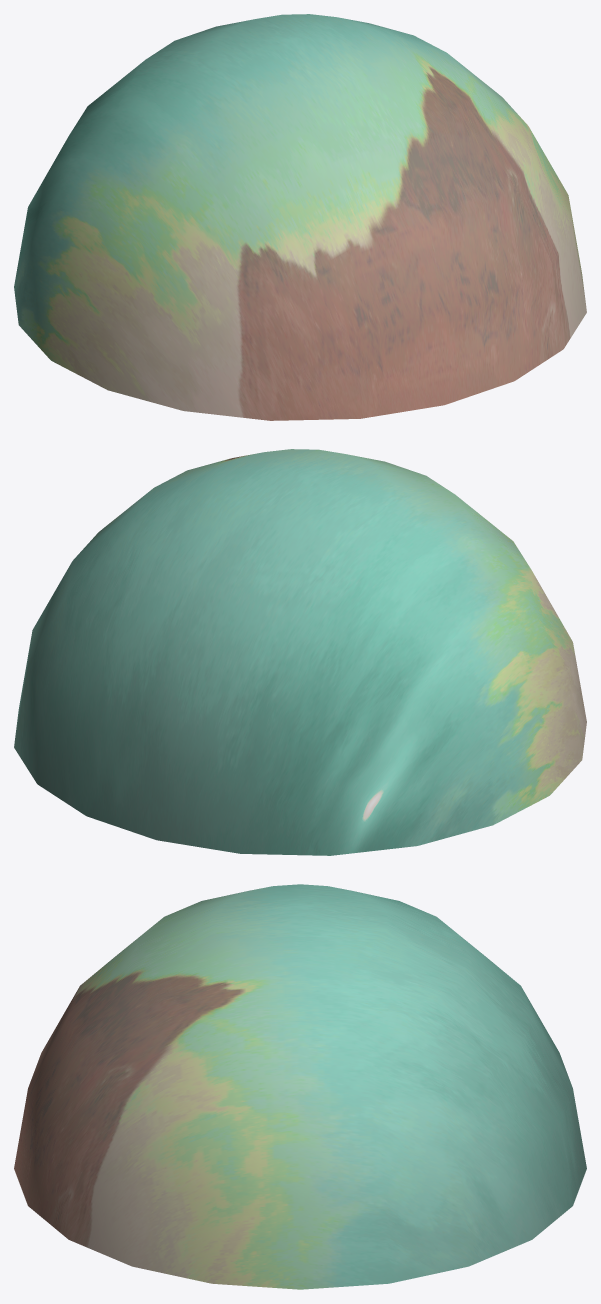
The model's file is map.obj.
The picture shows the model from 3 angles, top to bottom: view 1: azimuth 30°, elevation 25°; view 2: azimuth 150°, elevation 25°; view 3: azimuth 270°, elevation 25°; orthographic projection.
Visible parts, largest first — view 1: Sphere066; view 2: Sphere066; view 3: Sphere066.
Part boxes in pixels (x1,y1,x2,y2): Sphere066: (14, 14, 586, 420); Sphere066: (14, 449, 586, 855); Sphere066: (14, 884, 586, 1289).
Bounding box in the file's own units: 4966 × 2483 × 4966.
7 materials, 7 textured.
